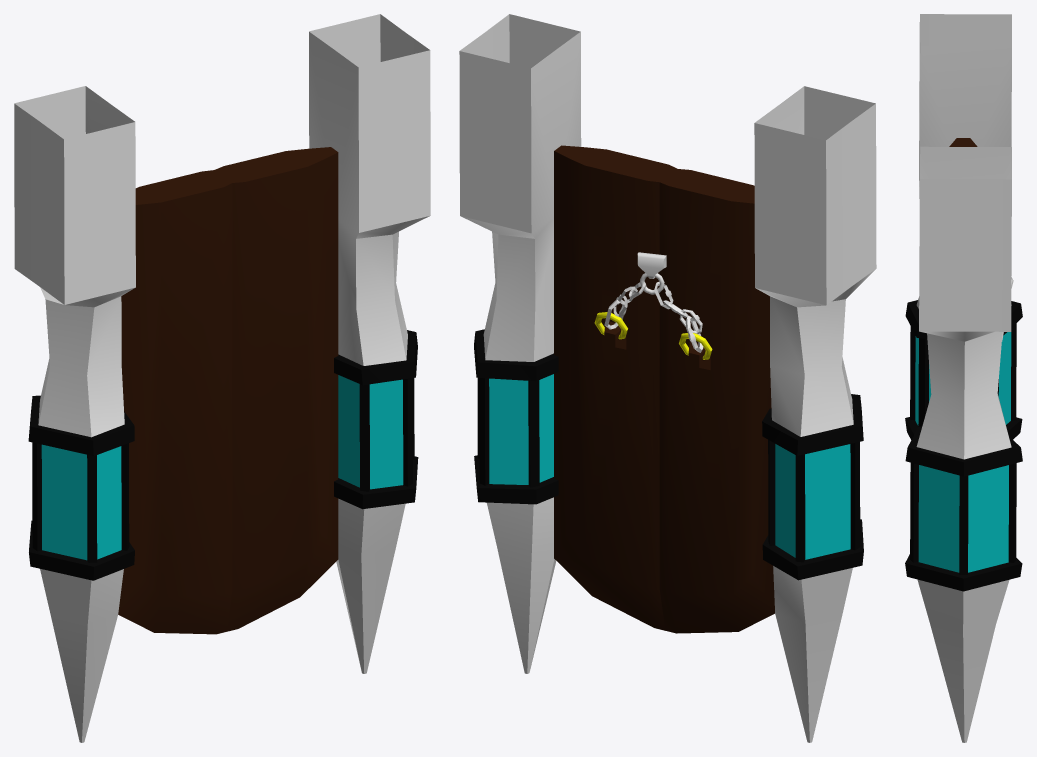
Rendered from Porte.FBX.
3 renders of one model, left to right at view 1: azimuth 30°, elevation 25°; view 2: azimuth 150°, elevation 25°; view 3: azimuth 270°, elevation 25°, orthographic. The views are drawn at different scales.
Parts seen in each view (by area): view 1: Porte, Porte002; view 2: Porte, Porte002, Serrure; view 3: Porte002, Porte.
Boxes of the visible parts, bbox=[...] form: Porte: bbox=[14, 86, 232, 742]; Porte002: bbox=[214, 14, 430, 673]; Porte: bbox=[659, 86, 876, 742]; Porte002: bbox=[459, 14, 677, 673]; Serrure: bbox=[637, 252, 666, 294]; Porte002: bbox=[905, 146, 1022, 742]; Porte: bbox=[905, 14, 1022, 439].
Bounding box in the file's own units: 2947 × 4557 × 837.
